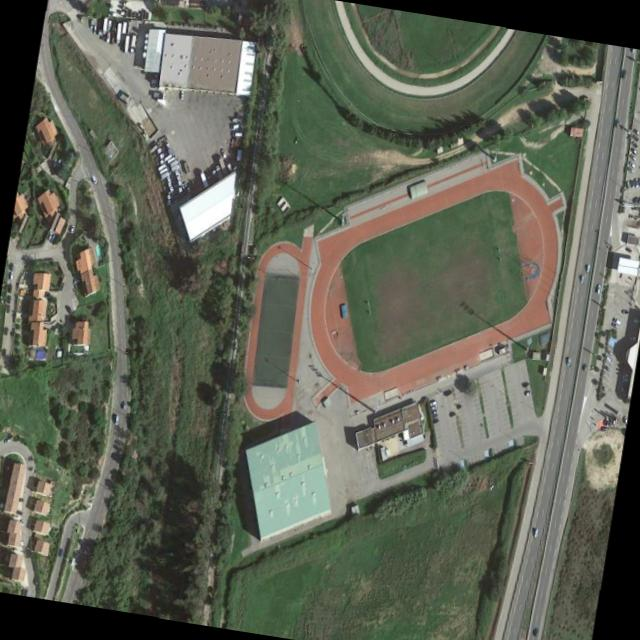large-vehicle: (160, 152, 174, 163), (116, 22, 122, 42), (103, 16, 109, 33), (131, 33, 137, 50), (167, 154, 176, 164), (162, 169, 172, 178), (172, 162, 181, 171), (159, 167, 169, 175), (170, 157, 180, 165), (125, 35, 130, 51), (233, 130, 244, 137), (159, 161, 168, 169), (123, 21, 128, 33), (234, 121, 240, 128), (116, 415, 120, 424)
small-vehicle: (628, 159, 637, 167), (629, 152, 638, 160), (432, 407, 440, 415), (70, 223, 77, 232), (632, 132, 639, 141), (48, 230, 54, 240), (6, 293, 12, 303), (92, 173, 98, 183), (631, 145, 638, 153), (631, 139, 638, 147), (533, 625, 538, 636), (534, 528, 540, 537), (597, 283, 602, 293), (630, 177, 635, 187), (567, 356, 572, 366), (586, 263, 591, 272), (4, 325, 9, 334), (59, 548, 64, 557), (583, 362, 588, 371), (90, 17, 94, 28), (616, 317, 622, 324), (628, 165, 634, 172), (431, 399, 438, 405), (634, 128, 640, 135), (7, 283, 12, 291), (622, 69, 626, 79), (123, 400, 127, 410), (581, 274, 585, 283), (635, 177, 639, 186), (2, 347, 6, 356), (7, 303, 11, 312), (10, 270, 14, 279), (526, 388, 532, 394), (614, 322, 620, 328), (608, 348, 614, 354), (605, 364, 611, 370), (627, 180, 631, 188), (524, 381, 530, 386), (434, 416, 439, 422), (431, 404, 437, 409), (622, 377, 629, 381), (181, 89, 184, 98), (5, 437, 11, 441), (94, 24, 97, 32), (630, 336, 635, 340), (623, 372, 628, 376), (638, 196, 640, 203)
